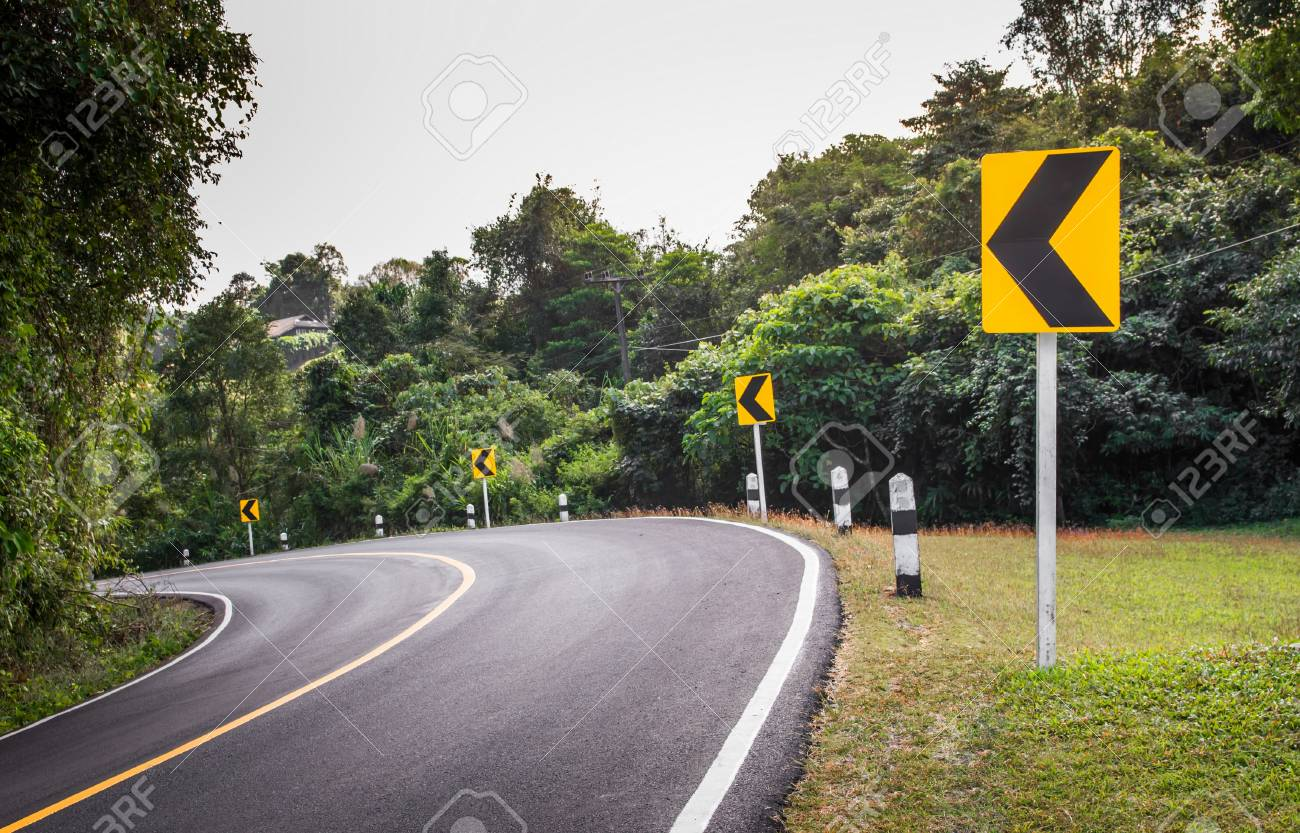leftTrun: (89, 462, 816, 809)
